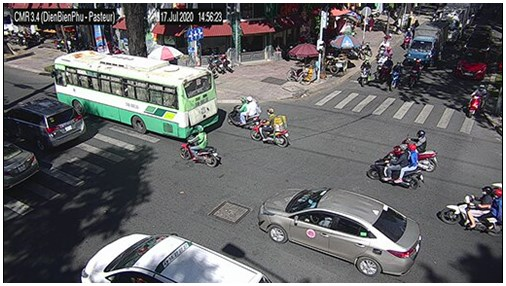xe_buyt: (53, 49, 219, 138)
xe_hoi: (258, 187, 422, 278), (6, 97, 86, 151), (4, 140, 40, 189), (453, 45, 487, 80), (462, 23, 492, 57)
xe_may: (438, 182, 502, 235), (366, 142, 424, 189), (179, 124, 219, 168), (250, 108, 289, 148), (404, 130, 439, 173), (227, 96, 260, 129), (467, 83, 488, 119), (408, 57, 422, 88), (359, 56, 371, 86), (390, 60, 402, 90), (378, 48, 391, 74), (380, 57, 392, 85), (378, 34, 388, 60), (402, 27, 413, 49)
xe_tai: (407, 20, 448, 65)
xe_taxi: (80, 233, 271, 283)
